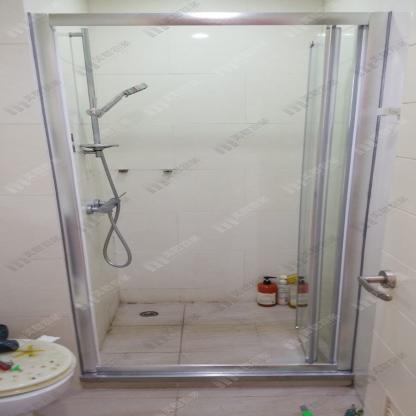Water Cubicle: (25, 12, 391, 389)
